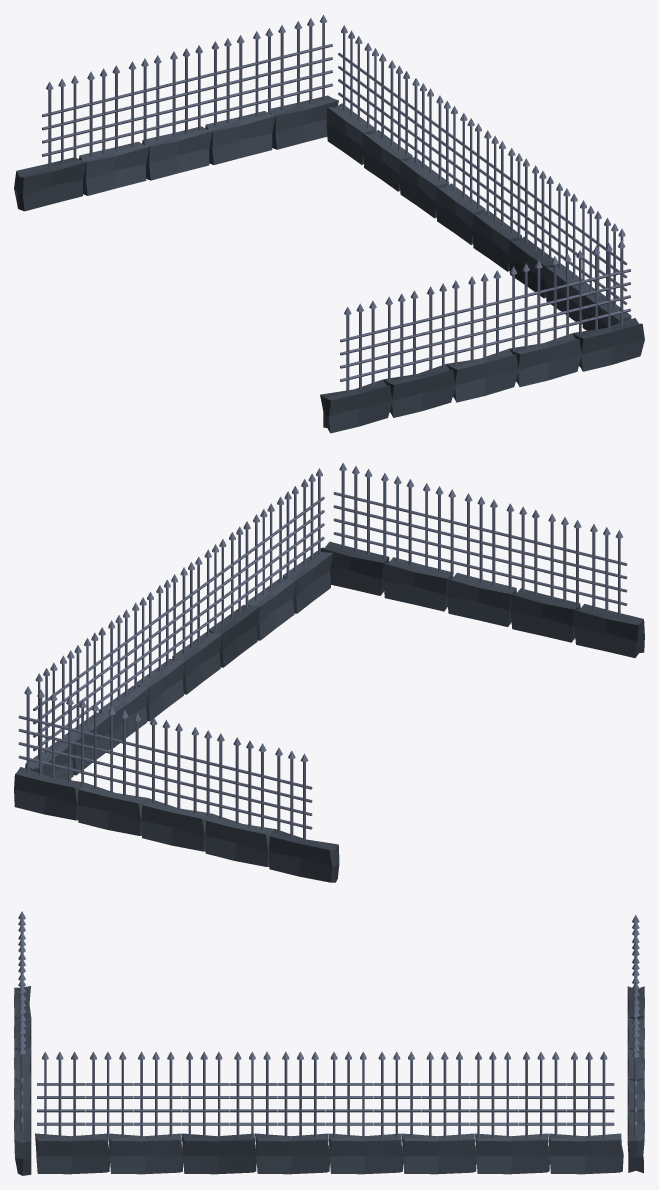
The model's file is rock_fence.fbx.
3 views of the same model, one above another, from view 1: azimuth 30°, elevation 25°; view 2: azimuth 150°, elevation 25°; view 3: azimuth 270°, elevation 25° (orthographic).
Parts seen in each view (by area): view 1: Cube.003, Cylinder.181, Cube.002, Cube.004, Cylinder.180, Cylinder.182; view 2: Cube.002, Cube.003, Cylinder.181, Cube.004, Cylinder.180, Cylinder.182; view 3: Cube.004, Cylinder.181, Cube.002, Cube.003, Cylinder.182, Cylinder.180.
Part boxes in pixels (bbox=[...]): Cube.003: bbox=[14, 95, 338, 211]; Cylinder.181: bbox=[338, 25, 627, 308]; Cube.002: bbox=[320, 318, 644, 433]; Cube.004: bbox=[326, 103, 631, 330]; Cylinder.180: bbox=[340, 240, 630, 392]; Cylinder.182: bbox=[42, 15, 332, 167]; Cube.002: bbox=[320, 541, 644, 657]; Cube.003: bbox=[14, 767, 339, 882]; Cylinder.181: bbox=[33, 468, 324, 759]; Cube.004: bbox=[25, 551, 332, 779]; Cylinder.180: bbox=[333, 462, 627, 616]; Cylinder.182: bbox=[18, 686, 312, 839]; Cube.004: bbox=[35, 1133, 623, 1174]; Cylinder.181: bbox=[37, 1051, 614, 1137]; Cube.002: bbox=[14, 986, 31, 1175]; Cube.003: bbox=[627, 986, 644, 1173]; Cylinder.182: bbox=[632, 915, 639, 1135]; Cylinder.180: bbox=[18, 911, 25, 1131].
Size of the model in its own units: 419 by 152 by 714.
Materials: 1 (1 with a texture image).
